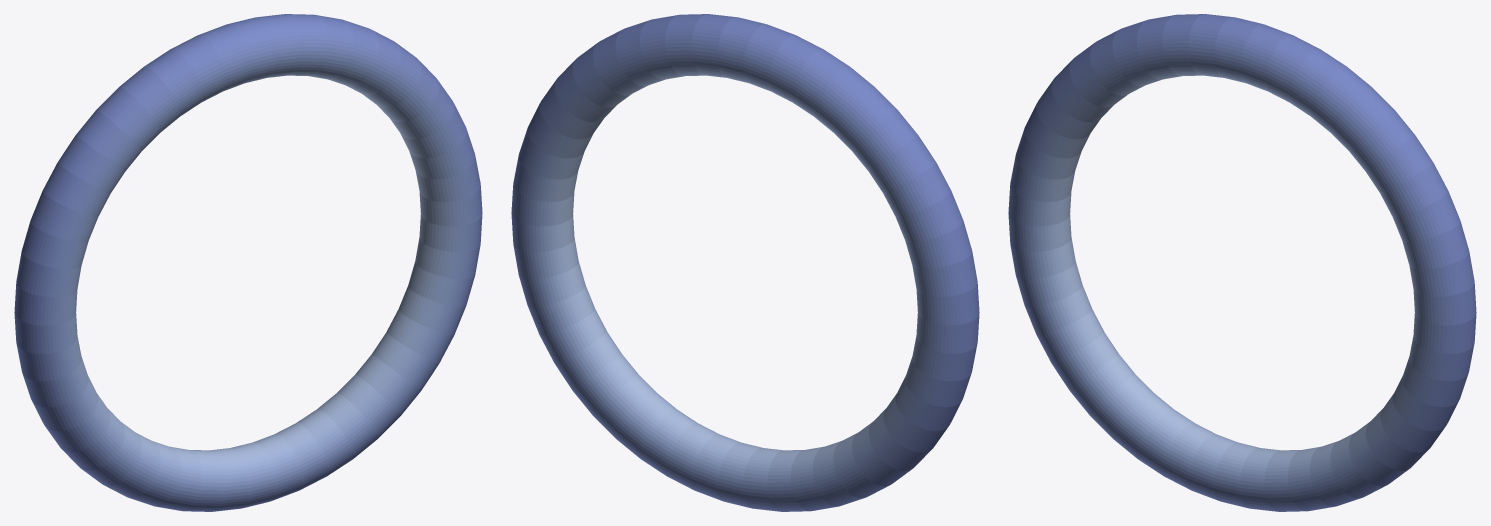
3 renders of one model, left to right at view 1: azimuth 30°, elevation 25°; view 2: azimuth 150°, elevation 25°; view 3: azimuth 330°, elevation 25°, orthographic.
Parts seen in each view (by area): view 1: world; view 2: world; view 3: world.
Boxes of the visible parts, x1=… form: world: x1=14, y1=14, x2=482, y2=511; world: x1=511, y1=14, x2=979, y2=511; world: x1=1008, y1=14, x2=1476, y2=511.
Size of the model in its own units: 26.4 by 26.35 by 3.06.
